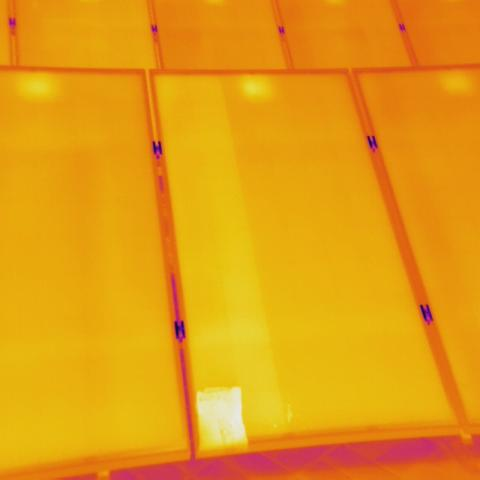fault: (189, 384, 251, 456)
